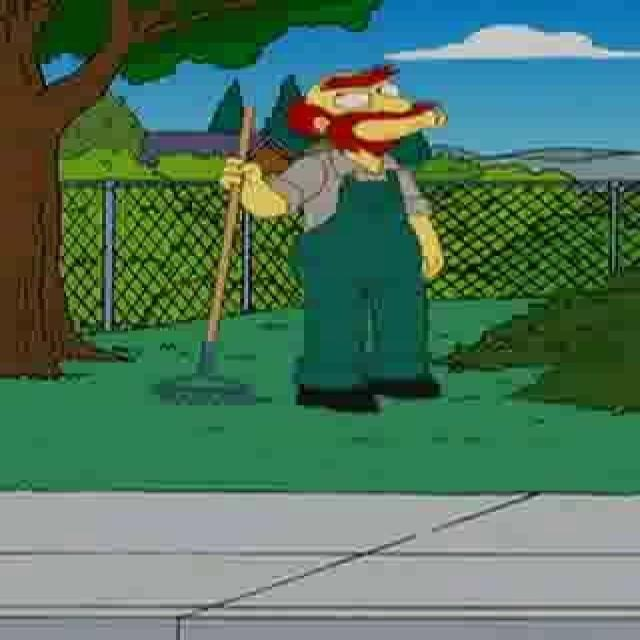Groundskeeper Willie: (285, 63, 455, 161)
